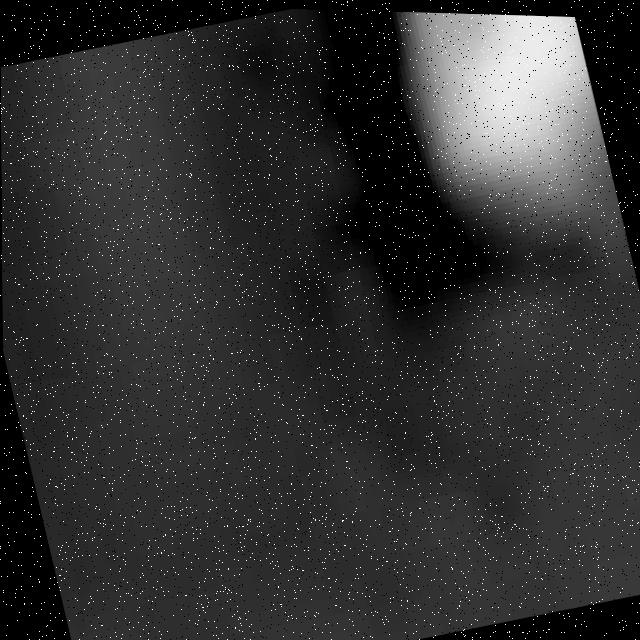person: (342, 9, 638, 332)
